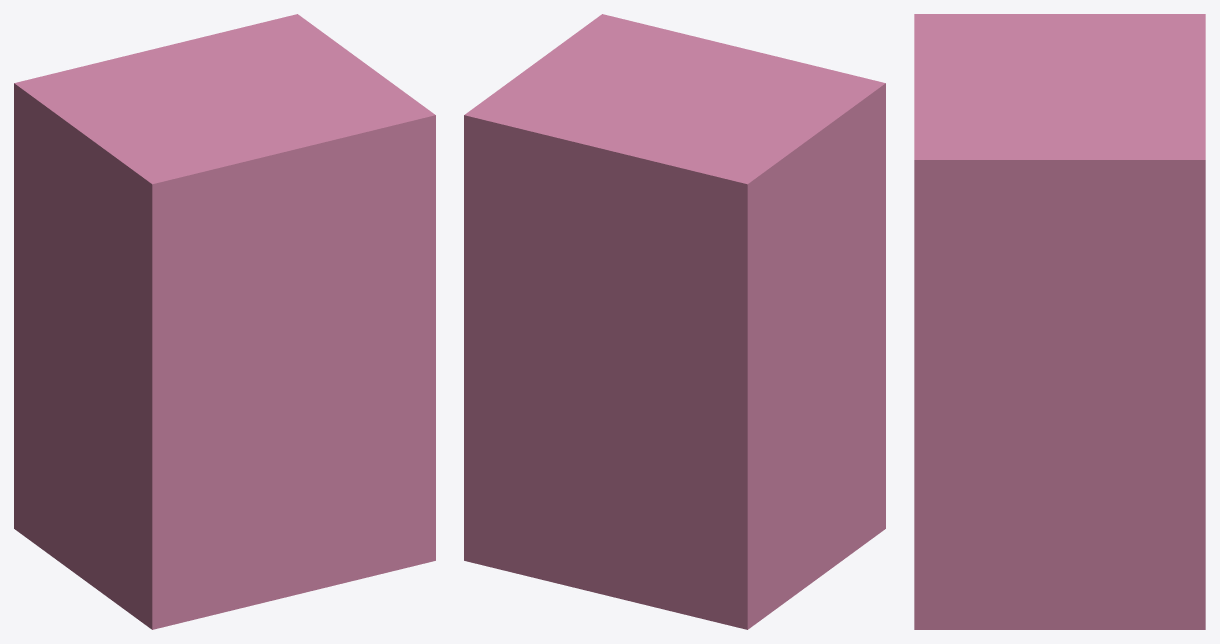
Rendered from tree_aspen_small_b.dae.
3 renders of one model, left to right at view 1: azimuth 30°, elevation 25°; view 2: azimuth 150°, elevation 25°; view 3: azimuth 270°, elevation 25°, orthographic. The views are drawn at different scales.
Parts seen in each view (by area): view 1: Untitled; view 2: Untitled; view 3: Untitled.
Boxes of the visible parts, left/top/right/bottom form: Untitled: left=14, top=14, right=435, bottom=629; Untitled: left=464, top=14, right=885, bottom=629; Untitled: left=914, top=14, right=1205, bottom=629.
Size of the model in its own units: 4.07 by 3.44 by 6.25.
